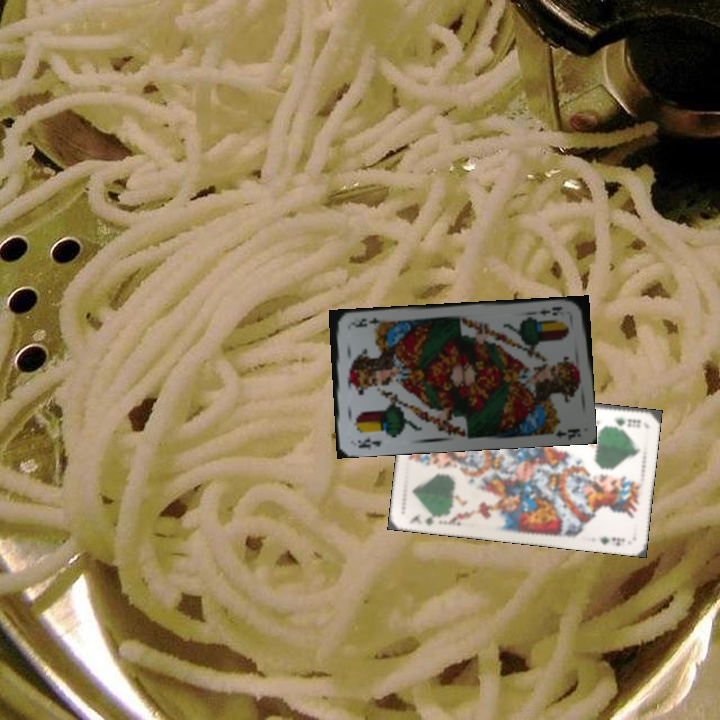EK: (354, 434, 384, 452), (536, 302, 564, 319)
GK: (406, 509, 445, 528), (611, 414, 643, 430)
